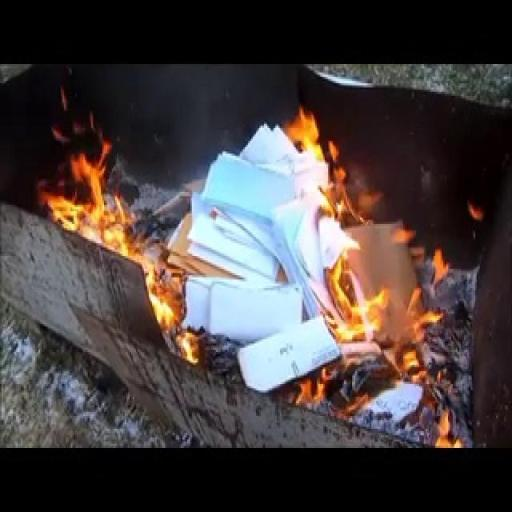smoke: (296, 111, 426, 386), (28, 100, 146, 262)
